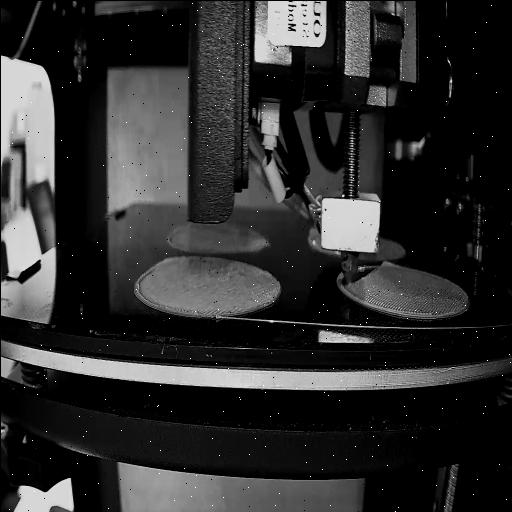over_extrusion: (131, 260, 157, 310), (378, 257, 400, 269)
